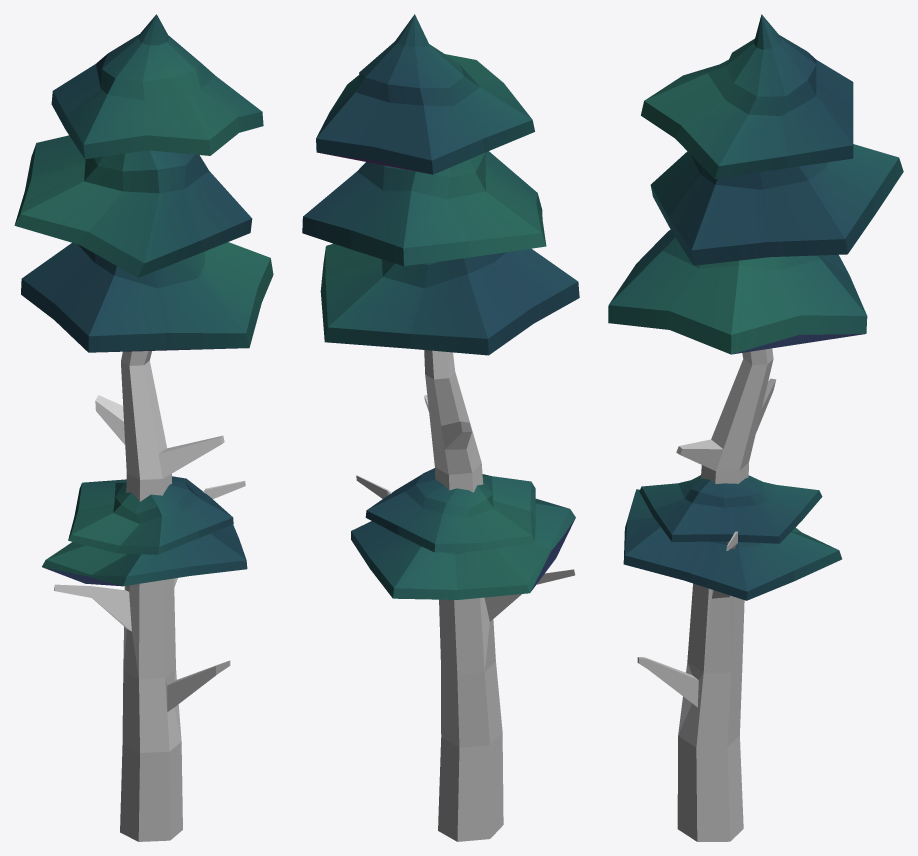
File: Tree_Pine03.fbx
3 views of the same model, side by side, from view 1: azimuth 30°, elevation 25°; view 2: azimuth 150°, elevation 25°; view 3: azimuth 270°, elevation 25° (orthographic). The views are drawn at different scales.
Visible parts, largest first — view 1: TolTreeTrunk2; view 2: TolTreeTrunk2; view 3: TolTreeTrunk2.
Part boxes in pixels (left/top/right/bottom): TolTreeTrunk2: left=14, top=14, right=273, bottom=841; TolTreeTrunk2: left=302, top=14, right=579, bottom=841; TolTreeTrunk2: left=608, top=14, right=903, bottom=841.
Bounding box in the file's own units: 173 × 553 × 178.
